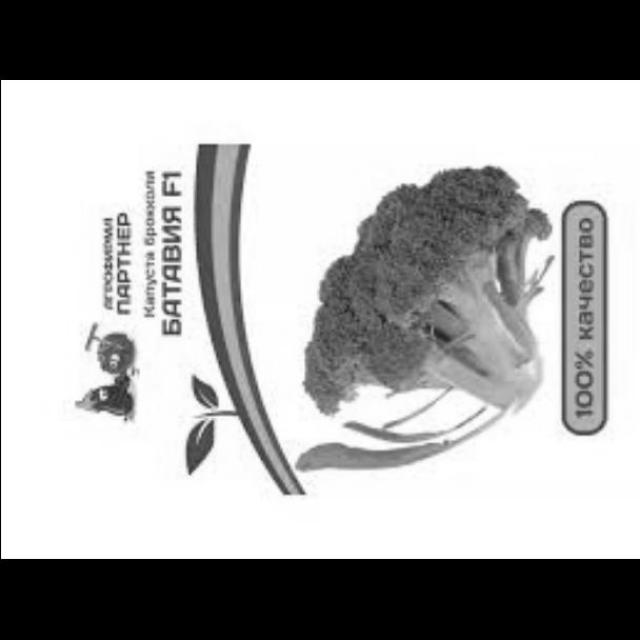broccoli: (297, 138, 570, 424)
